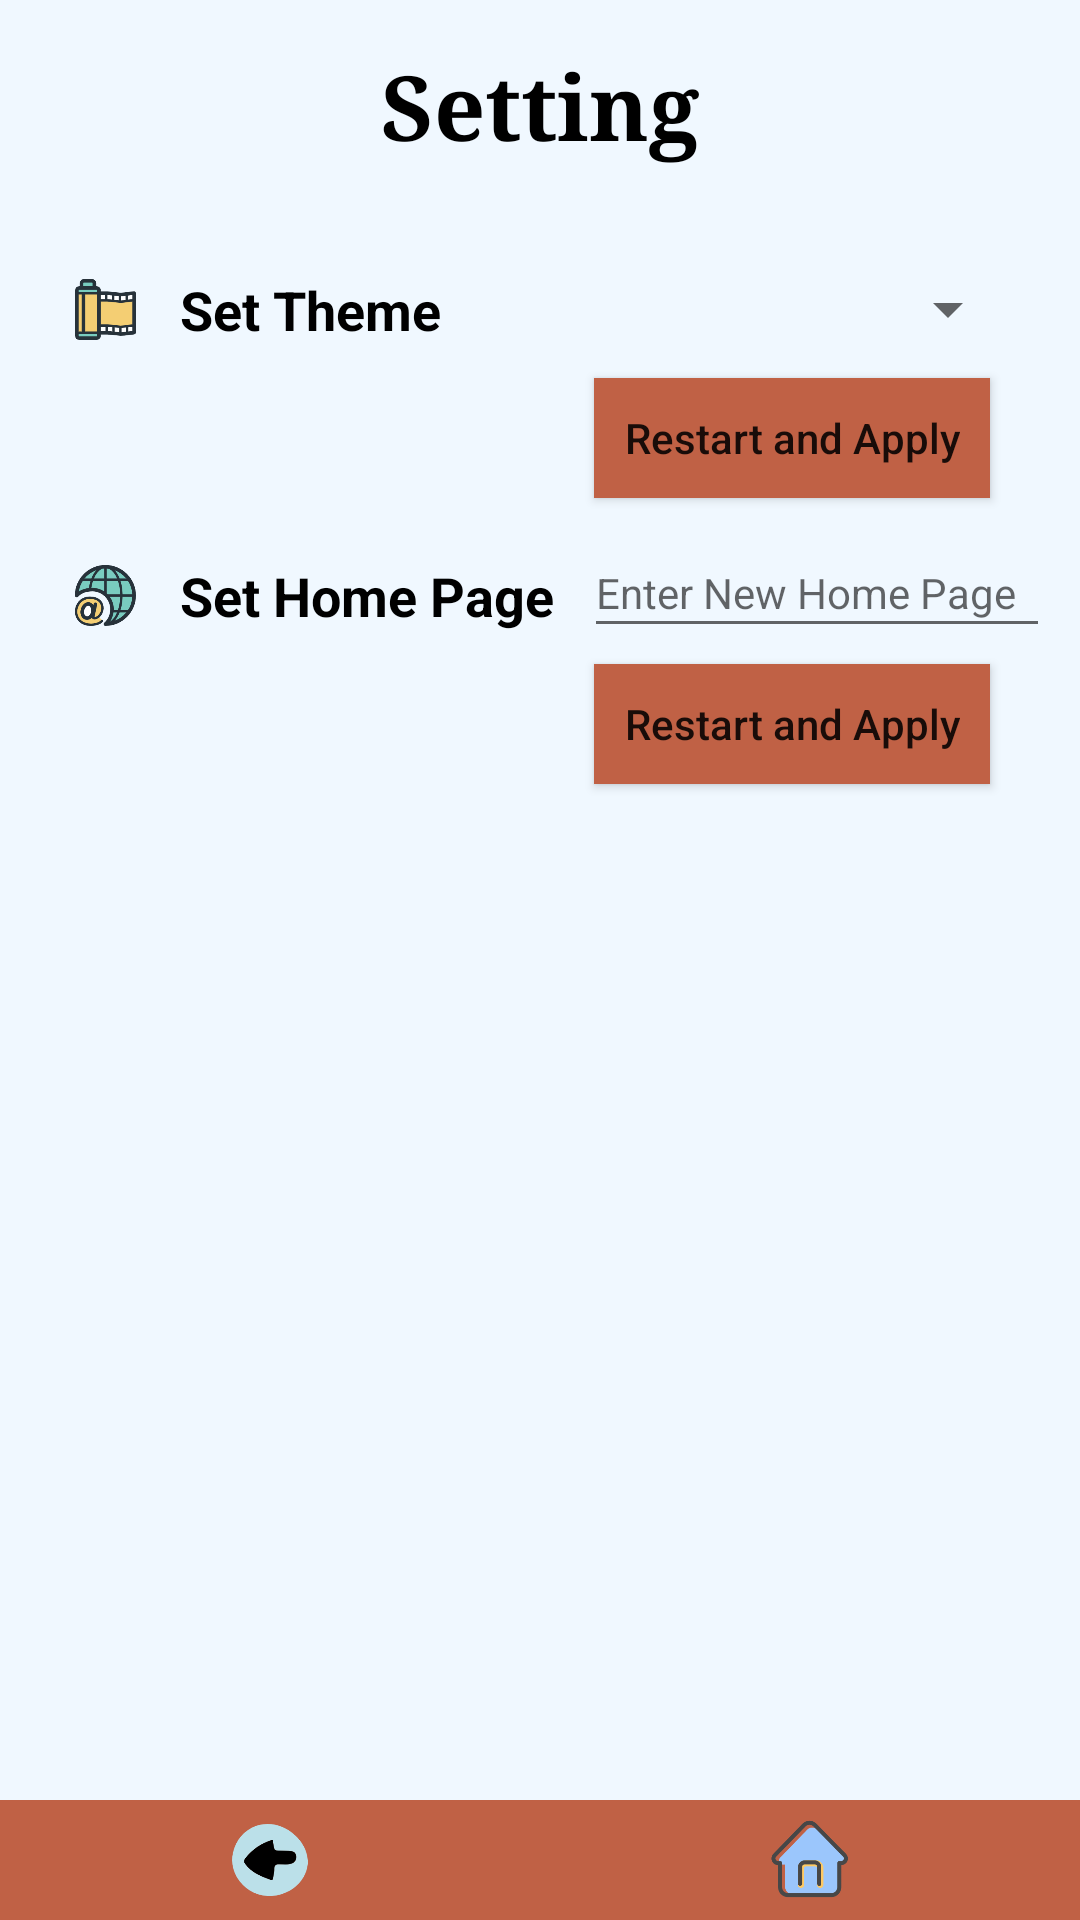

Named icons in this screenshot (1080×1920) and their centers, (x,y):
url: (105,595)
